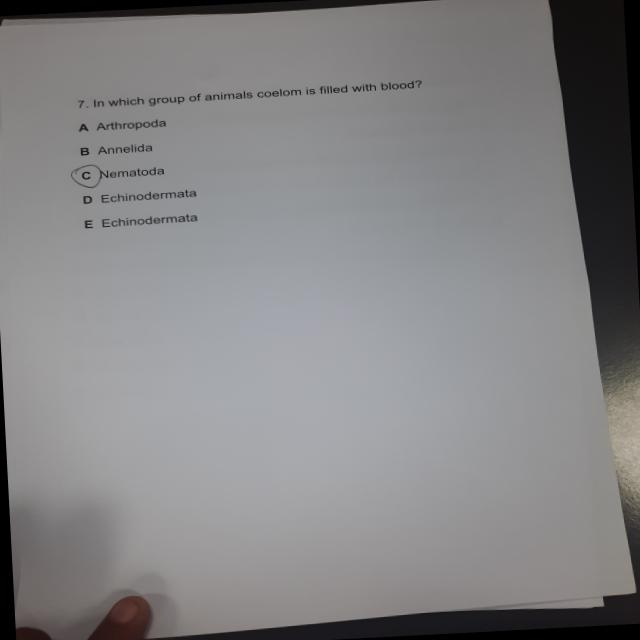C: (64, 163, 109, 191)
